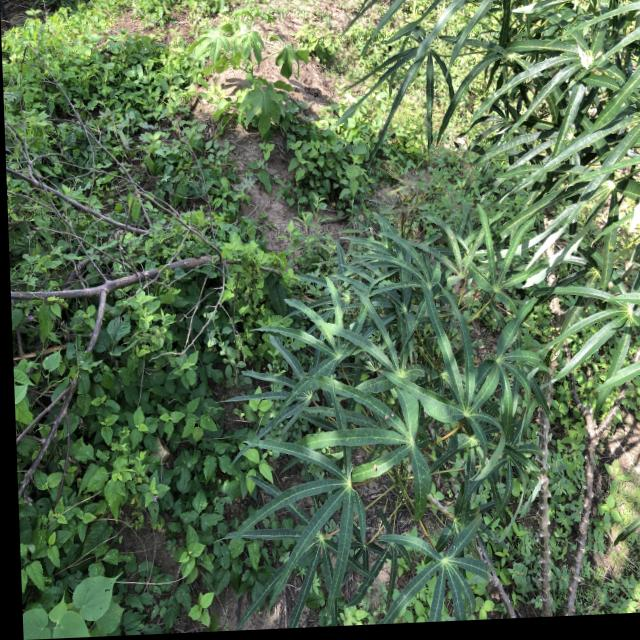Maleza: (13, 346, 222, 630), (16, 154, 262, 319), (0, 1, 191, 180), (291, 139, 378, 207)
Mosca: (375, 403, 396, 425), (502, 79, 517, 100), (471, 401, 485, 418), (608, 241, 619, 257), (371, 460, 381, 476), (329, 396, 341, 409), (509, 421, 520, 434)
